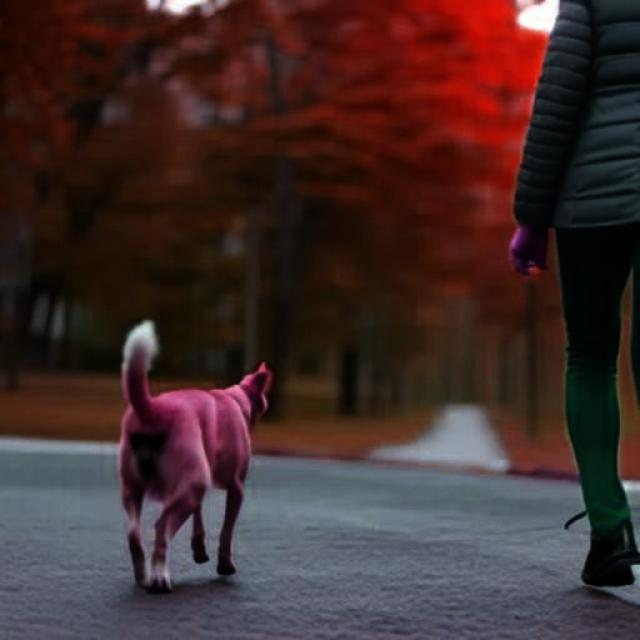Unleashed_Dog: (117, 226, 640, 594)
